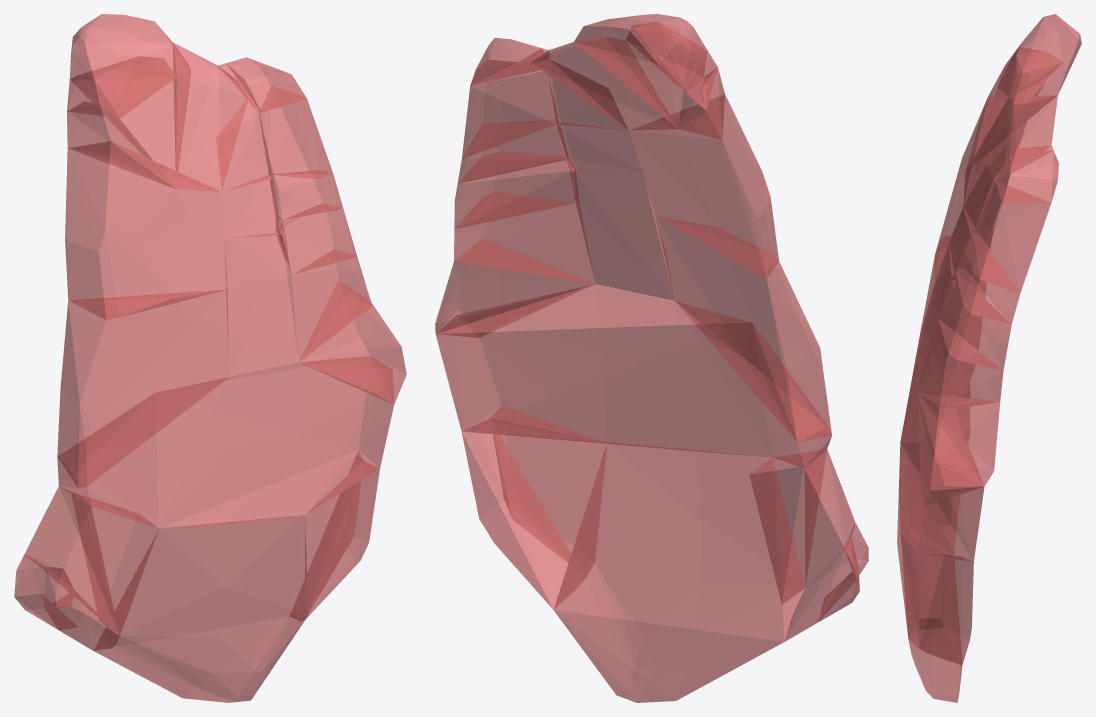
The model's file is env_excavationsite_mountainpiece04_col.fbx.
3 views of the same model, side by side, from view 1: azimuth 30°, elevation 25°; view 2: azimuth 150°, elevation 25°; view 3: azimuth 270°, elevation 25° (orthographic). The views are drawn at different scales.
Visible parts, largest first — view 1: mountainpiece04_col_1, mountainpiece04_col_11, mountainpiece04_col_5, mountainpiece04_col_12, mountainpiece04_col_2, mountainpiece04_col_16, mountainpiece04_col_26, mountainpiece04_col_17, mountainpiece04_col_7, mountainpiece04_col_8, mountainpiece04_col_29, mountainpiece04_col_25 (+14 smaller); view 2: mountainpiece04_col_11, mountainpiece04_col_1, mountainpiece04_col_5, mountainpiece04_col_12, mountainpiece04_col_8, mountainpiece04_col_10, mountainpiece04_col_6, mountainpiece04_col_16, mountainpiece04_col_2, mountainpiece04_col_7, mountainpiece04_col_17, mountainpiece04_col_29 (+12 smaller); view 3: mountainpiece04_col_1, mountainpiece04_col_11, mountainpiece04_col_7, mountainpiece04_col_2, mountainpiece04_col_9, mountainpiece04_col_6, mountainpiece04_col_17, mountainpiece04_col_18, mountainpiece04_col_10, mountainpiece04_col_12, mountainpiece04_col_8, mountainpiece04_col_19 (+11 smaller).
Part boxes in pixels (box(x1,y1,x2,y2)): mountainpiece04_col_1: box(155, 356, 393, 528); mountainpiece04_col_11: box(93, 515, 308, 702); mountainpiece04_col_5: box(57, 289, 228, 487); mountainpiece04_col_12: box(65, 141, 227, 320); mountainpiece04_col_2: box(69, 14, 191, 188); mountainpiece04_col_16: box(224, 233, 298, 377); mountainpiece04_col_26: box(57, 393, 159, 528); mountainpiece04_col_17: box(173, 42, 248, 191); mountainpiece04_col_7: box(299, 280, 406, 404); mountainpiece04_col_8: box(305, 461, 379, 618); mountainpiece04_col_29: box(72, 494, 159, 635); mountainpiece04_col_25: box(25, 486, 119, 635); mountainpiece04_col_11: box(553, 443, 804, 702); mountainpiece04_col_1: box(435, 284, 772, 457); mountainpiece04_col_5: box(656, 216, 831, 442); mountainpiece04_col_12: box(629, 94, 778, 278); mountainpiece04_col_8: box(490, 405, 606, 576); mountainpiece04_col_10: box(461, 419, 585, 609); mountainpiece04_col_6: box(454, 192, 595, 283); mountainpiece04_col_16: box(574, 170, 674, 300); mountainpiece04_col_2: box(574, 14, 707, 128); mountainpiece04_col_7: box(435, 239, 594, 337); mountainpiece04_col_17: box(530, 37, 677, 130); mountainpiece04_col_29: box(749, 450, 826, 604); mountainpiece04_col_1: box(899, 325, 984, 561); mountainpiece04_col_11: box(897, 446, 962, 702); mountainpiece04_col_7: box(917, 393, 1000, 506); mountainpiece04_col_2: box(965, 14, 1081, 171); mountainpiece04_col_9: box(972, 181, 1051, 293); mountainpiece04_col_6: box(917, 318, 1003, 408); mountainpiece04_col_17: box(963, 95, 1057, 205); mountainpiece04_col_18: box(937, 272, 1011, 370); mountainpiece04_col_10: box(919, 554, 973, 665); mountainpiece04_col_12: box(934, 96, 1026, 283); mountainpiece04_col_8: box(900, 533, 944, 648); mountainpiece04_col_19: box(956, 234, 1019, 324).
Size of the model in its own units: 426 by 719 by 188.
